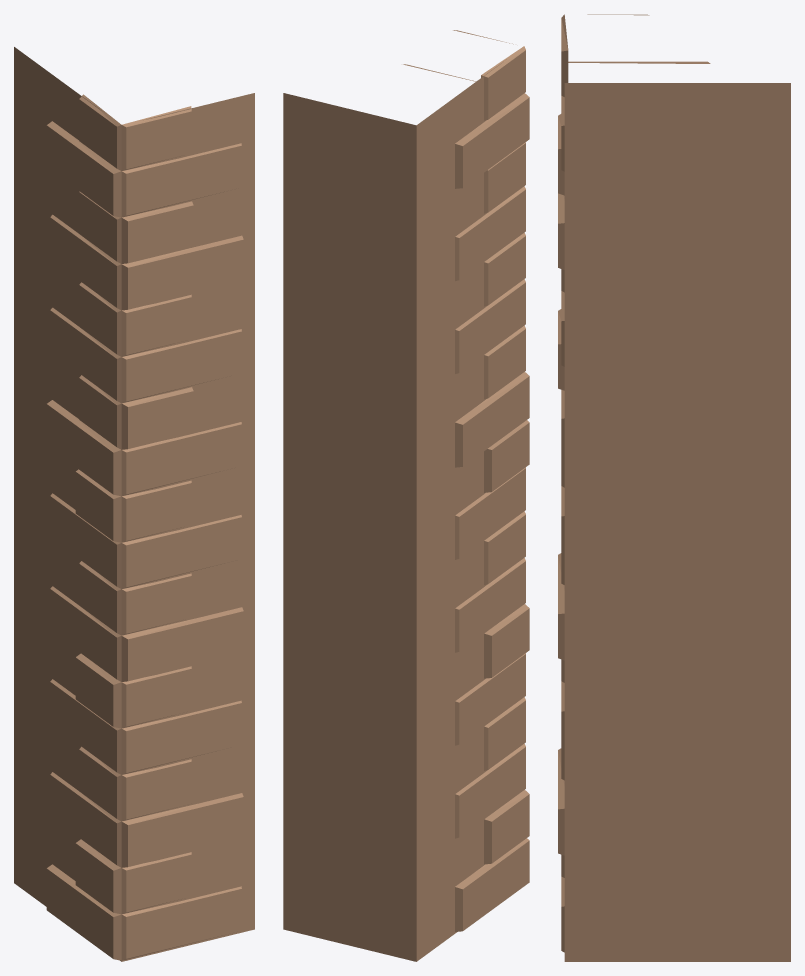
Rendered from env_block_brick_column_red_bricks.glb.
The picture shows the model from 3 angles, left to right: view 1: azimuth 30°, elevation 25°; view 2: azimuth 150°, elevation 25°; view 3: azimuth 270°, elevation 25°; orthographic projection. The views are drawn at different scales.
Parts seen in each view (by area): view 1: geometry_0; view 2: geometry_0; view 3: geometry_0.
Part boxes in pixels (x1,y1,x2,y2): geometry_0: (14,47,254,961); geometry_0: (283,30,529,961); geometry_0: (558,14,790,961).
Bounding box in the file's own units: 0.5258 × 3 × 0.7202.
